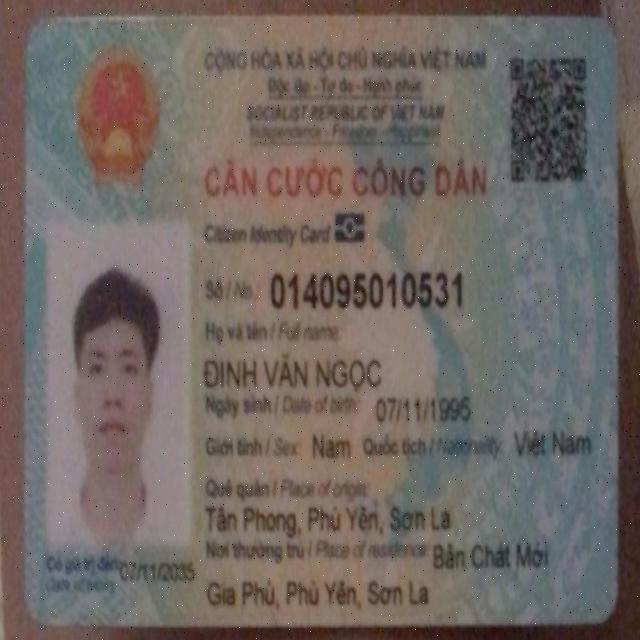current_place: (204, 568, 432, 615), (432, 531, 555, 584)
dob: (374, 391, 473, 430)
expire_date: (117, 556, 196, 590)
gender: (307, 423, 357, 468)
id: (270, 269, 465, 313)
name: (199, 346, 386, 398)
nationality: (509, 416, 595, 461)
origin_place: (204, 499, 455, 540)
